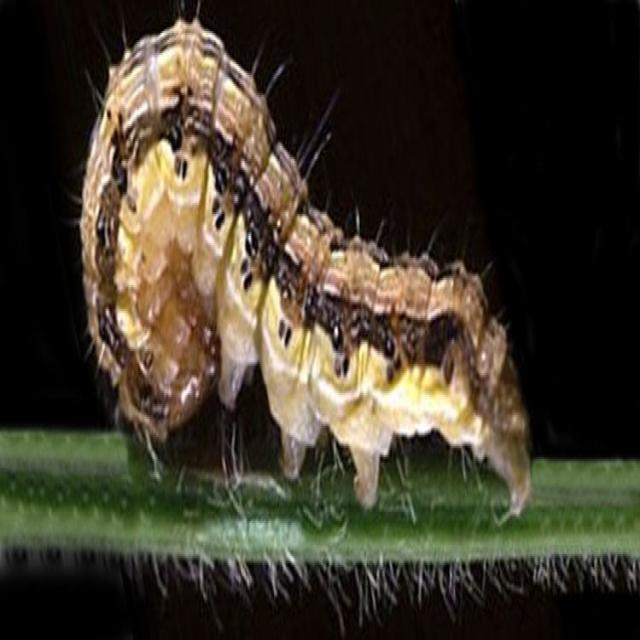Corn-earworm: (76, 27, 535, 555)
